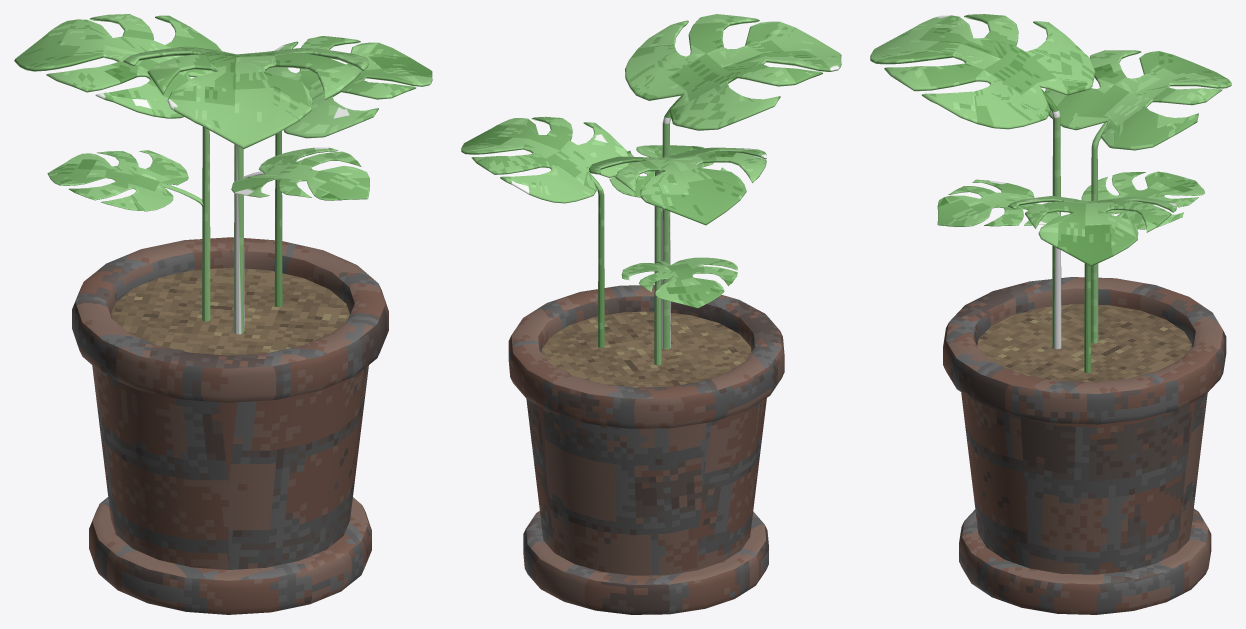
File: pianta_1.fbx
3 renders of one model, left to right at view 1: azimuth 30°, elevation 25°; view 2: azimuth 150°, elevation 25°; view 3: azimuth 270°, elevation 25°, orthographic. The views are drawn at different scales.
Visible parts, largest first — view 1: pCylinder10, pCylinder12.001, pCylinder9, pPlane1, pPlane1.001, pPlane2, pPlane4, pPlane5, pCylinder13.001, pCylinder13.002, pCylinder14.001; view 2: pCylinder10, pCylinder12.001, pPlane1, pCylinder9, pPlane2, pPlane1.001, pPlane4, pCylinder13.001, pCylinder14.001, pPlane5, pCylinder13.002; view 3: pCylinder10, pCylinder12.001, pPlane1, pCylinder9, pPlane1.001, pPlane2, pPlane5, pPlane4, pCylinder13.001, pCylinder13.002, pCylinder14.001, pCylinder17.001.
Part boxes in pixels (x1=…): pCylinder10: x1=92, y1=365, x2=368, y2=569; pCylinder12.001: x1=72, y1=237, x2=388, y2=402; pCylinder9: x1=89, y1=497, x2=371, y2=614; pPlane1: x1=123, y1=46, x2=368, y2=149; pPlane1.001: x1=14, y1=14, x2=221, y2=118; pPlane2: x1=265, y1=36, x2=432, y2=138; pPlane4: x1=47, y1=150, x2=188, y2=211; pPlane5: x1=231, y1=147, x2=369, y2=200; pCylinder13.001: x1=233, y1=144, x2=244, y2=334; pCylinder13.002: x1=202, y1=127, x2=210, y2=321; pCylinder14.001: x1=274, y1=131, x2=282, y2=307; pCylinder10: x1=526, y1=398, x2=766, y2=575; pCylinder12.001: x1=508, y1=285, x2=784, y2=428; pPlane1: x1=625, y1=14, x2=841, y2=130; pCylinder9: x1=523, y1=511, x2=768, y2=614; pPlane2: x1=461, y1=116, x2=629, y2=203; pPlane1.001: x1=589, y1=147, x2=766, y2=225; pPlane4: x1=621, y1=257, x2=737, y2=308; pCylinder13.001: x1=662, y1=95, x2=682, y2=349; pCylinder14.001: x1=590, y1=173, x2=604, y2=347; pPlane5: x1=609, y1=145, x2=727, y2=197; pCylinder13.002: x1=654, y1=171, x2=661, y2=365; pCylinder10: x1=961, y1=392, x2=1207, y2=574; pCylinder12.001: x1=943, y1=277, x2=1226, y2=424; pPlane1: x1=870, y1=14, x2=1095, y2=129; pCylinder9: x1=959, y1=508, x2=1211, y2=614; pPlane1.001: x1=1045, y1=50, x2=1231, y2=150; pPlane2: x1=1008, y1=196, x2=1176, y2=266; pPlane5: x1=937, y1=179, x2=1059, y2=226; pPlane4: x1=1081, y1=171, x2=1204, y2=229; pCylinder13.001: x1=1041, y1=88, x2=1061, y2=347; pCylinder13.002: x1=1091, y1=122, x2=1107, y2=343; pCylinder14.001: x1=1084, y1=263, x2=1091, y2=373; pCylinder17.001: x1=1054, y1=211, x2=1061, y2=349.
Size of the model in its own units: 2.19 by 3.22 by 2.12.
4 materials, 3 textured.
